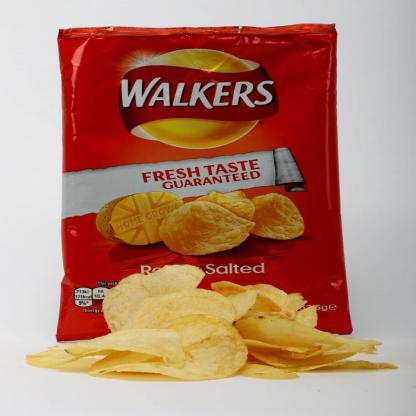potatochip: (58, 11, 362, 352)
